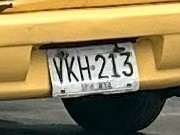number plate: (48, 42, 138, 97)
